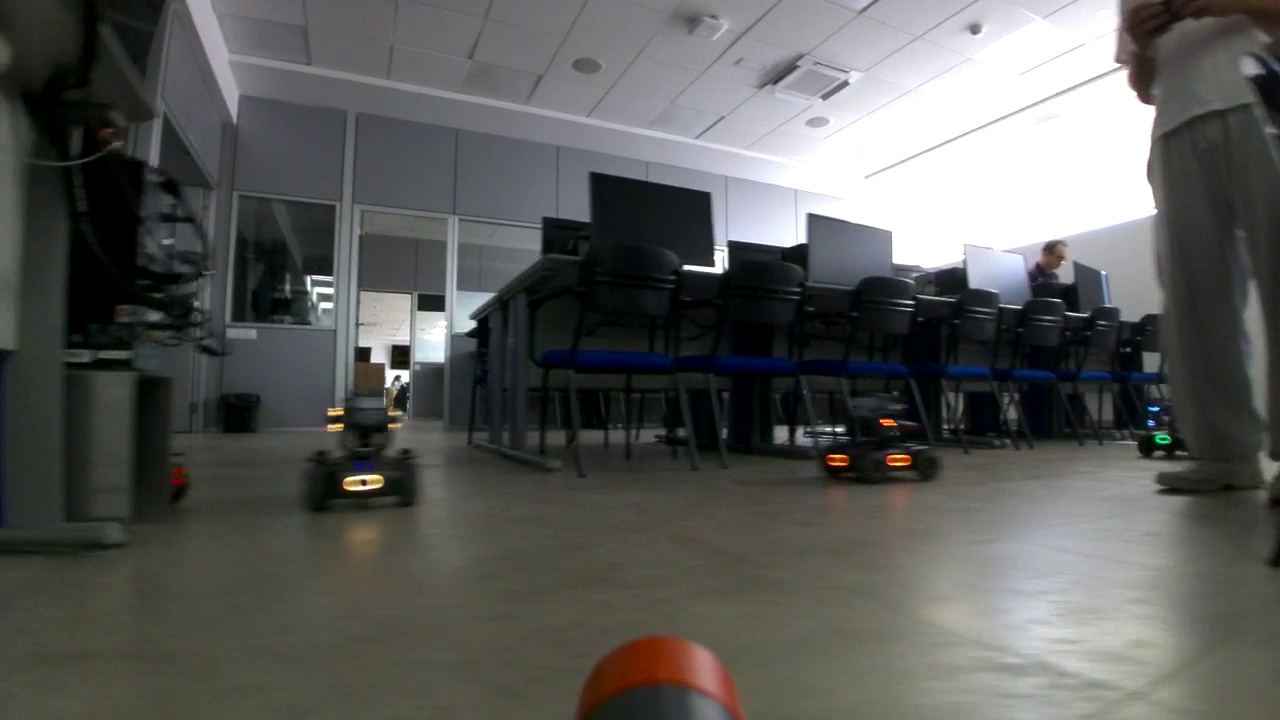robot: (304, 373, 415, 508), (819, 383, 942, 484), (1137, 392, 1221, 460)
